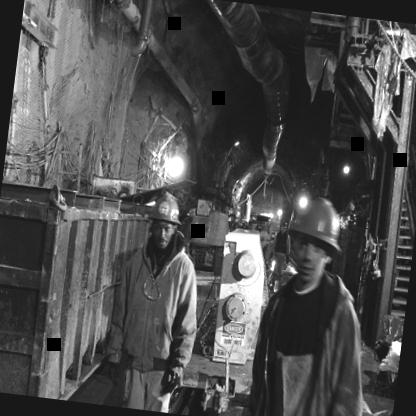helmet: (272, 182, 354, 296), (141, 184, 190, 254)
